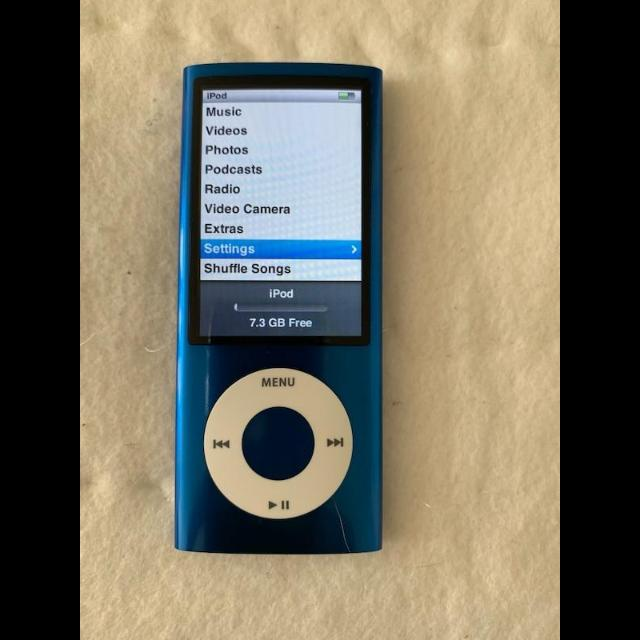Music-Player: (160, 46, 398, 568)
